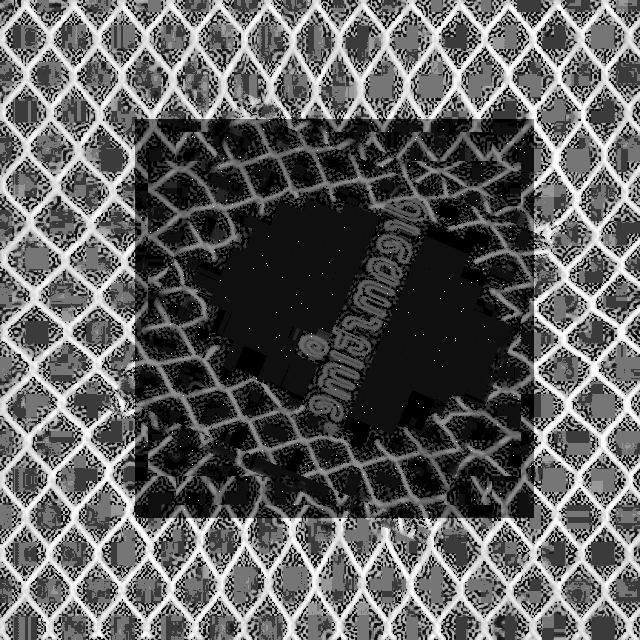anomaly-fence: (135, 119, 534, 518)
